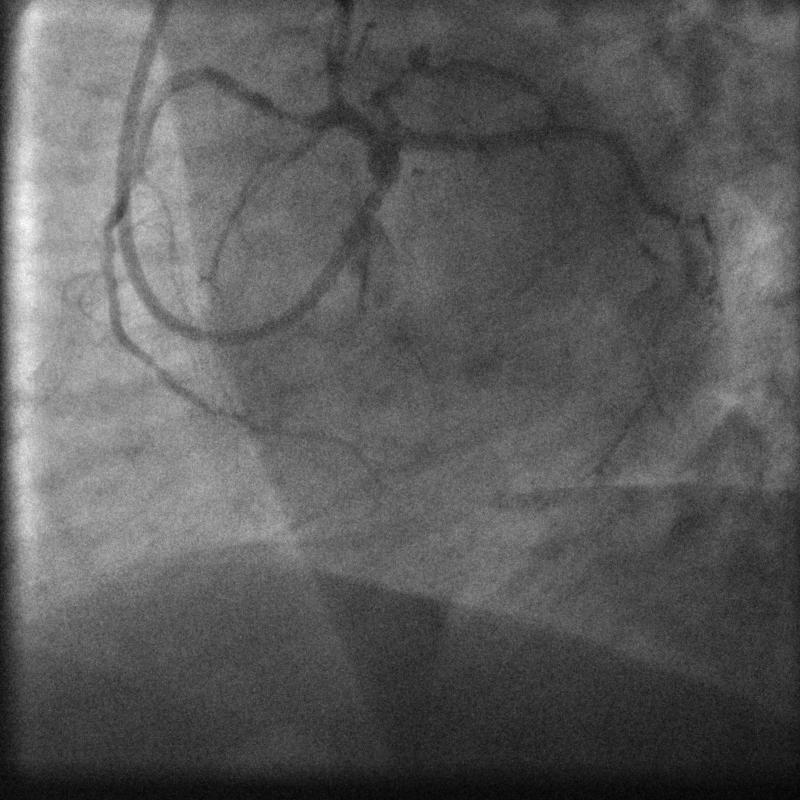Stenosis: (269, 93, 321, 132)
